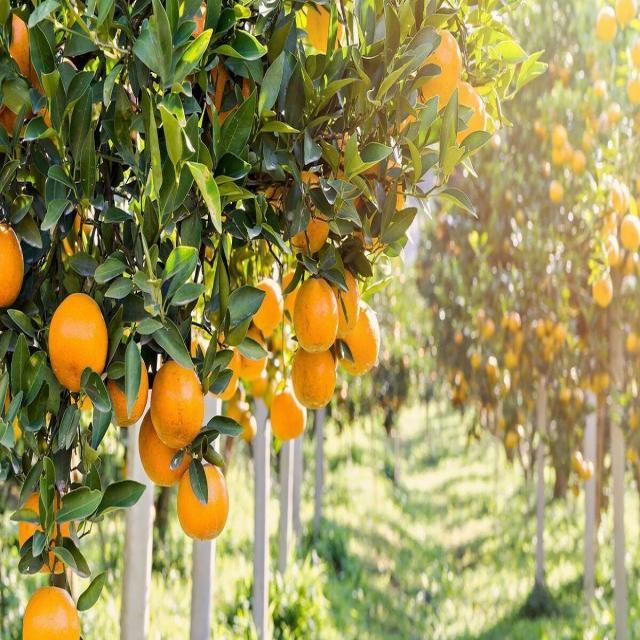Jeruk Sudah Matang: (44, 282, 110, 404), (282, 324, 348, 421), (170, 452, 235, 550), (146, 354, 208, 452), (134, 404, 198, 493), (329, 296, 389, 386), (412, 20, 467, 111), (288, 272, 345, 358), (96, 346, 152, 428), (17, 577, 86, 640), (266, 372, 312, 449), (0, 219, 28, 320), (248, 272, 284, 336)
